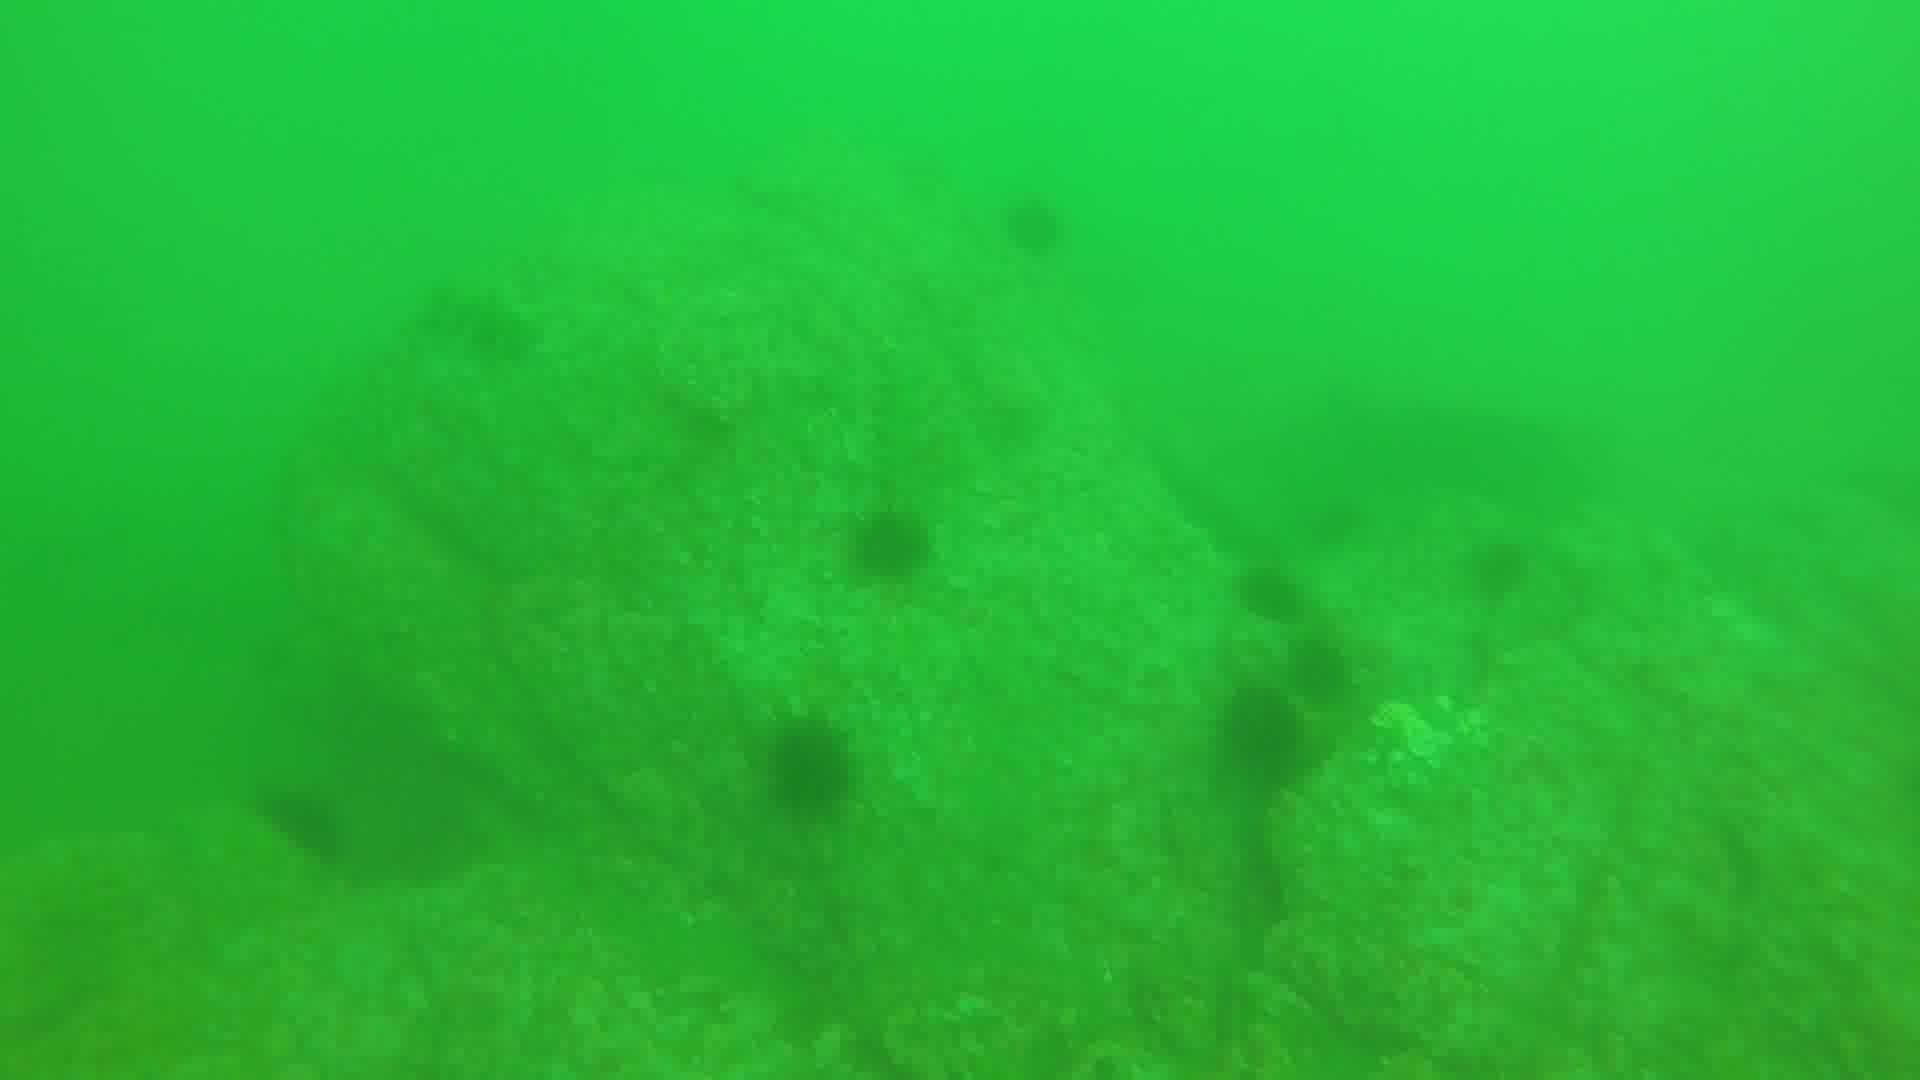echinus: (245, 793, 349, 878), (757, 720, 851, 812), (1233, 686, 1307, 789), (851, 501, 939, 585), (1229, 562, 1302, 646), (1284, 644, 1353, 725), (1470, 543, 1547, 612), (1000, 190, 1062, 265)
